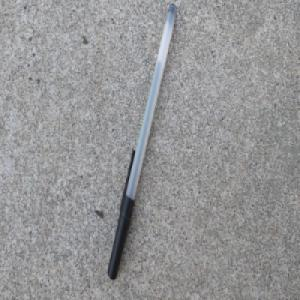Pen: (107, 1, 179, 283)
